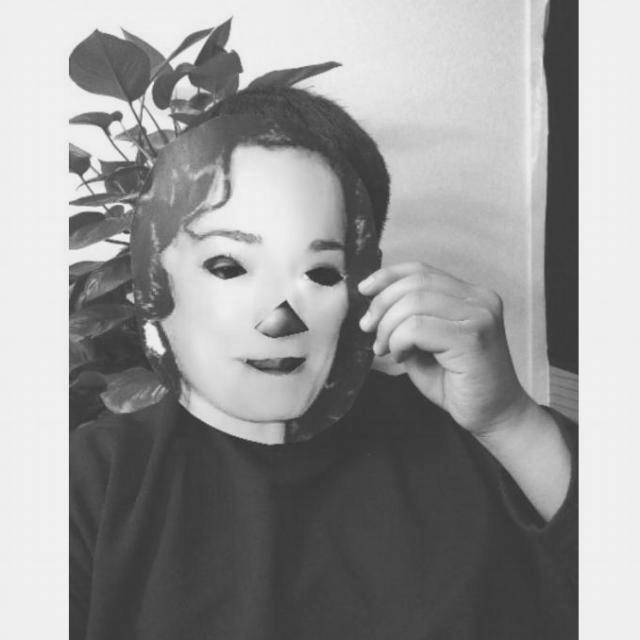fake: (132, 117, 369, 422)
